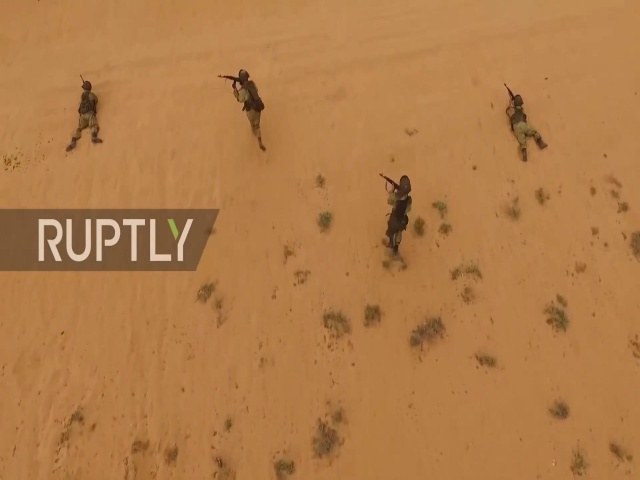person: (222, 70, 270, 153), (501, 81, 546, 162), (378, 168, 414, 257), (67, 77, 107, 154)
